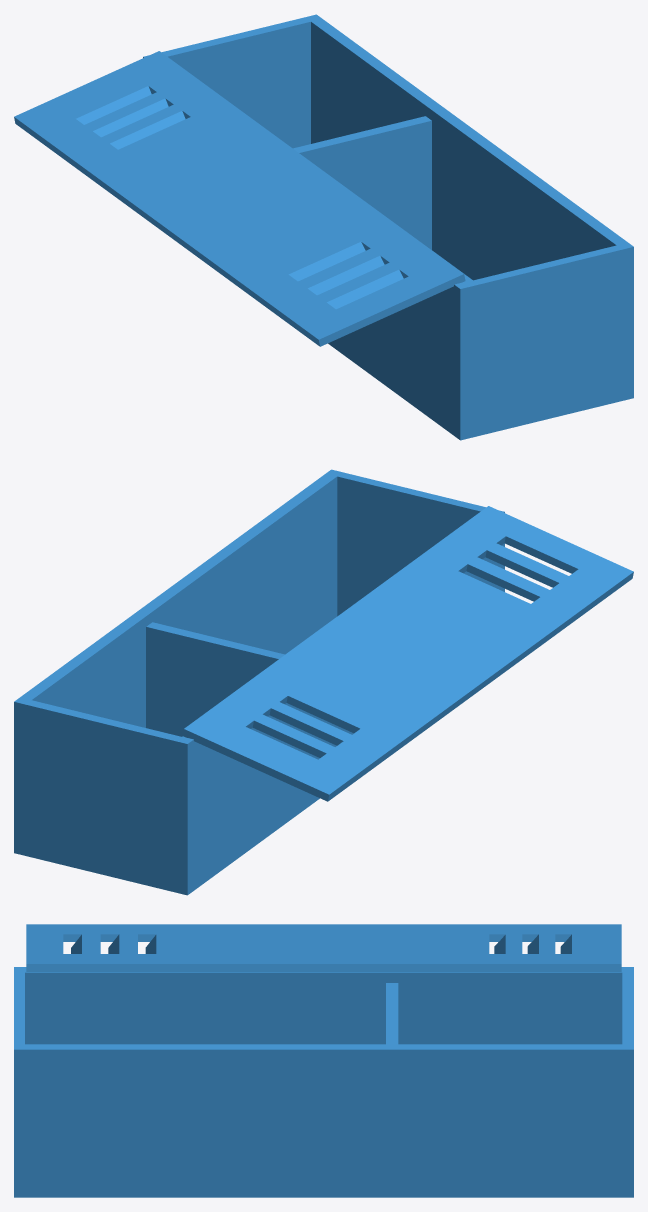
File: OpenFallenLocker1.fbx
3 views of the same model, one above another, from view 1: azimuth 30°, elevation 25°; view 2: azimuth 150°, elevation 25°; view 3: azimuth 270°, elevation 25° (orthographic). The views are drawn at different scales.
Visible parts, largest first — view 1: Locker.001; view 2: Locker.001; view 3: Locker.001.
Boxes of the visible parts, box(x1,y1,x2,y2) form: Locker.001: box(14, 14, 633, 440); Locker.001: box(14, 469, 633, 895); Locker.001: box(14, 924, 633, 1197).
Size of the model in its own units: 85.43 by 42.15 by 152.
